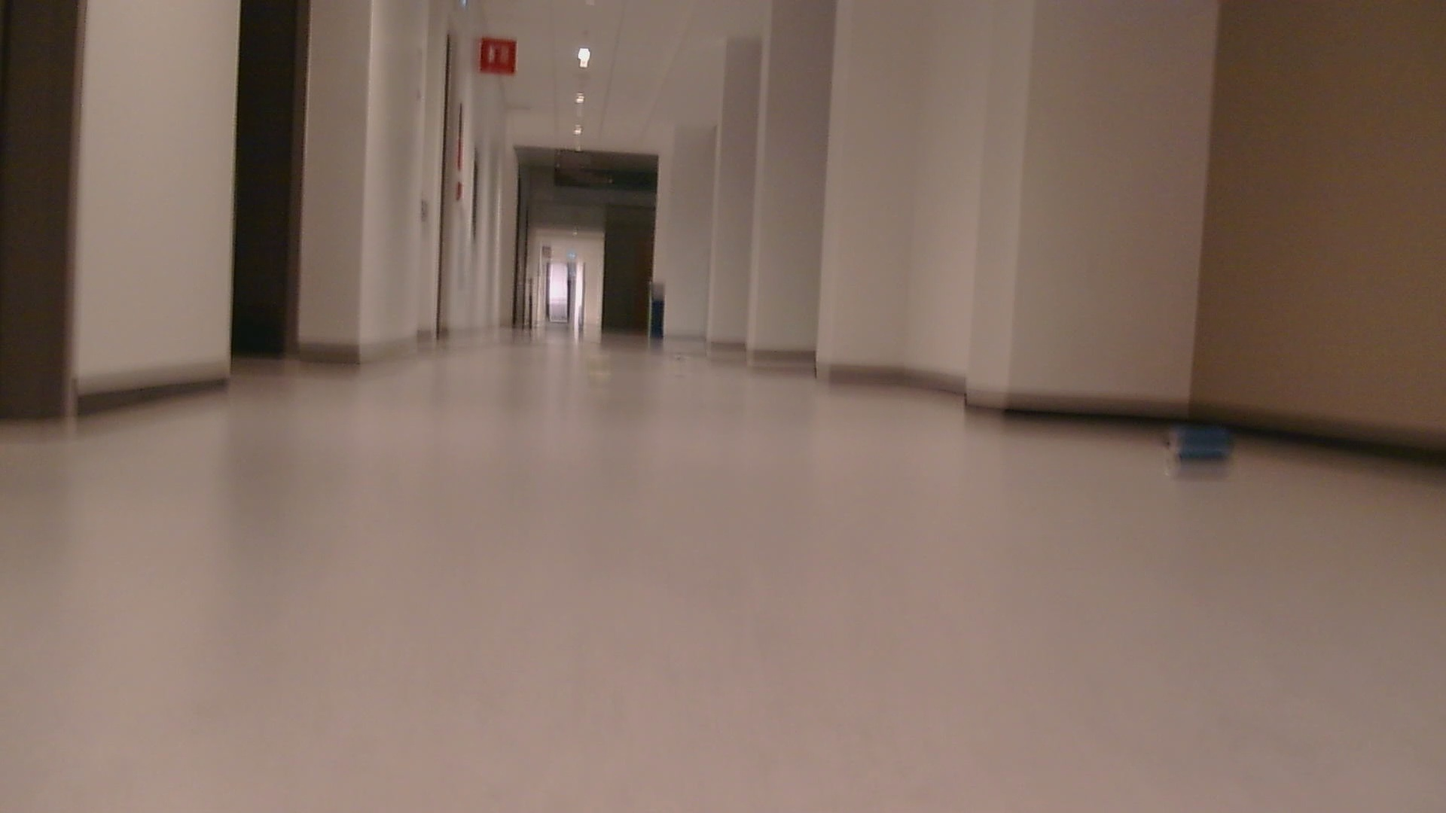carton: (1145, 407, 1237, 478)
